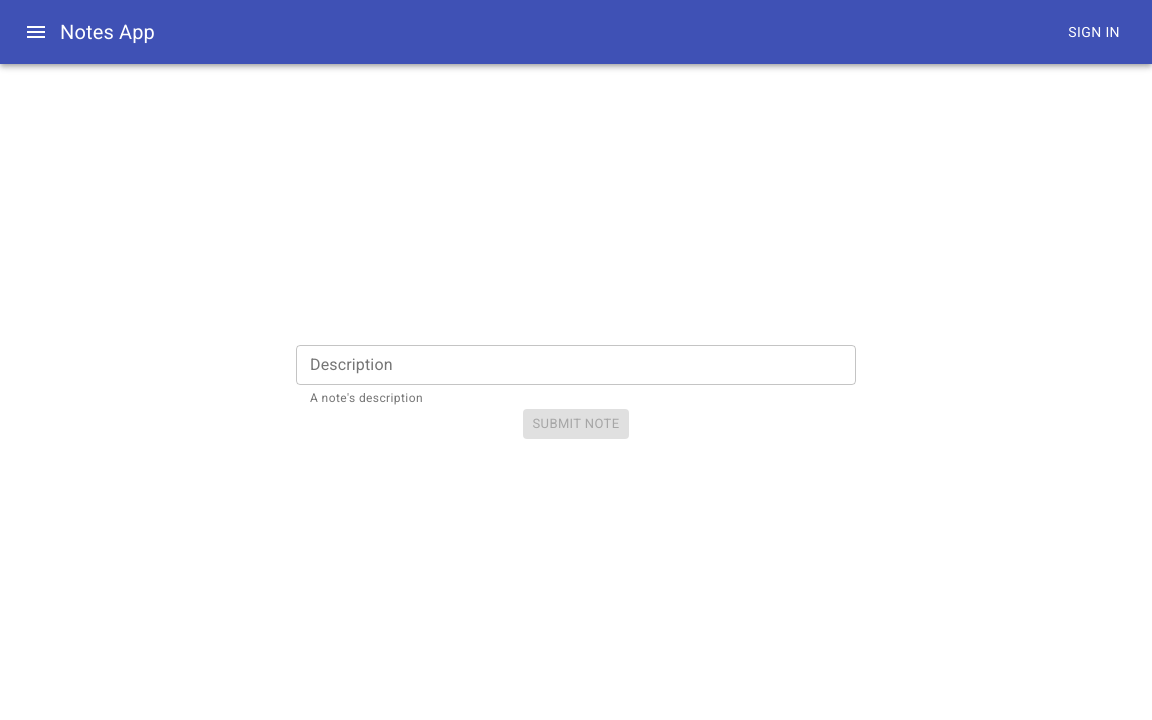
Test: App initial page unit test › it should close the menu when Esc key is pressed
Click the button with test id "menu-toggler". click: (36, 32)
box: [12, 8, 60, 56]
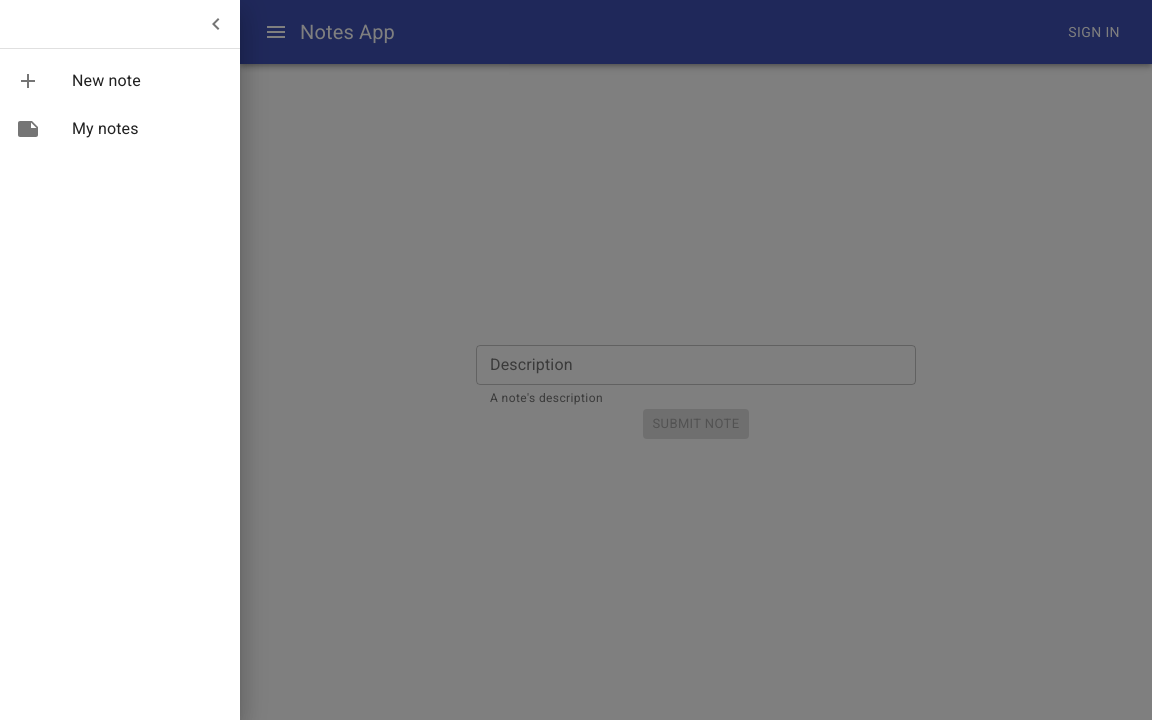
Press Escape in the element with test id "menu", box [0, 0, 240, 719]
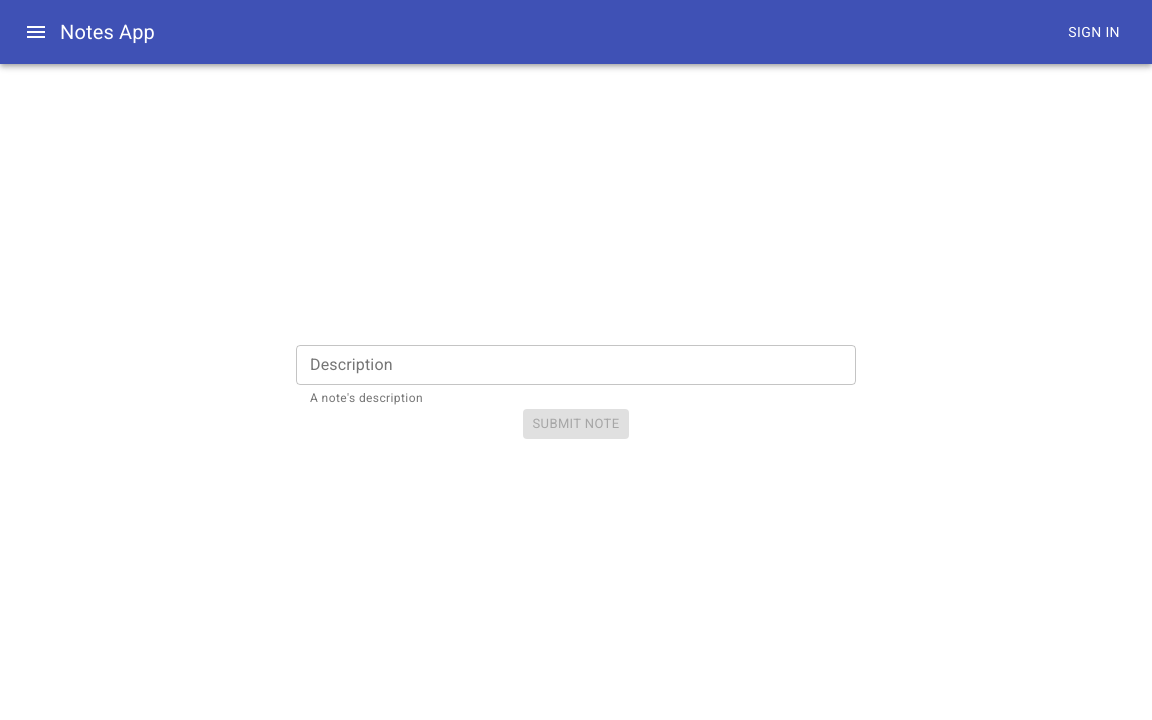
Expected: the element with test id "menu" is gone
